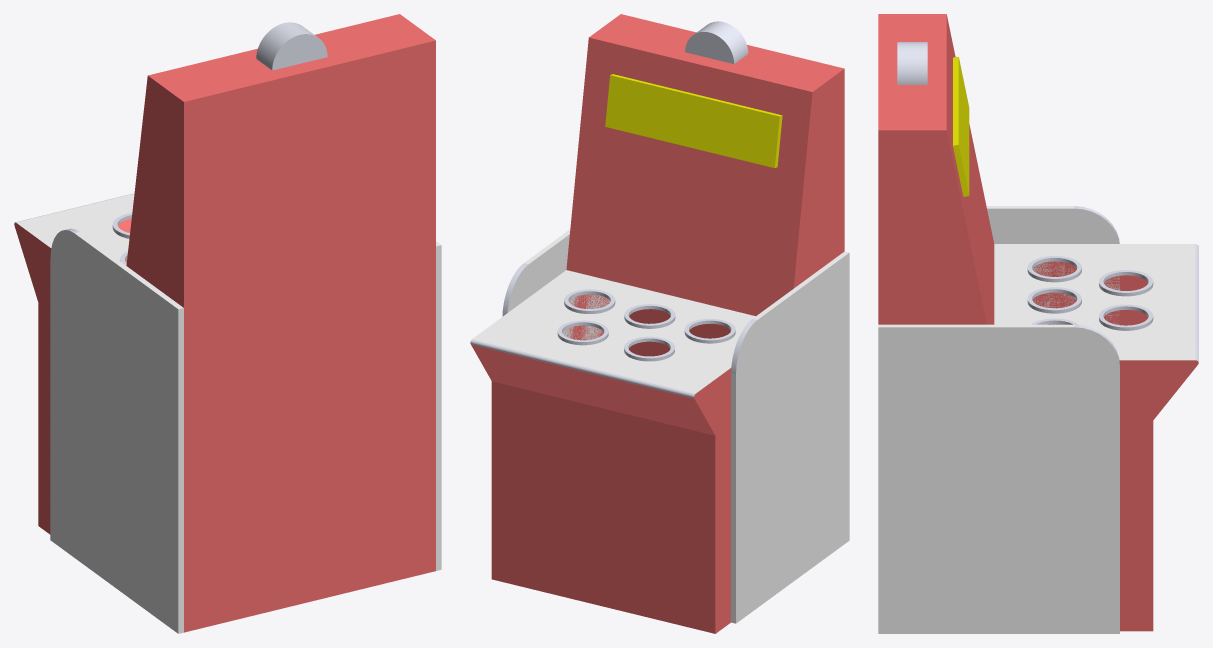
File: WhackAMole.fbx
3 renders of one model, left to right at view 1: azimuth 30°, elevation 25°; view 2: azimuth 150°, elevation 25°; view 3: azimuth 270°, elevation 25°, orthographic. The views are drawn at different scales.
Parts seen in each view (by area): view 1: Whack a Mole (Machine); view 2: Whack a Mole (Machine); view 3: Whack a Mole (Machine).
Part boxes in pixels (x1=…): Whack a Mole (Machine): x1=14, y1=14, x2=441, y2=633; Whack a Mole (Machine): x1=470, y1=14, x2=849, y2=633; Whack a Mole (Machine): x1=878, y1=14, x2=1198, y2=633.
Size of the model in its own units: 95 by 193 by 106.
